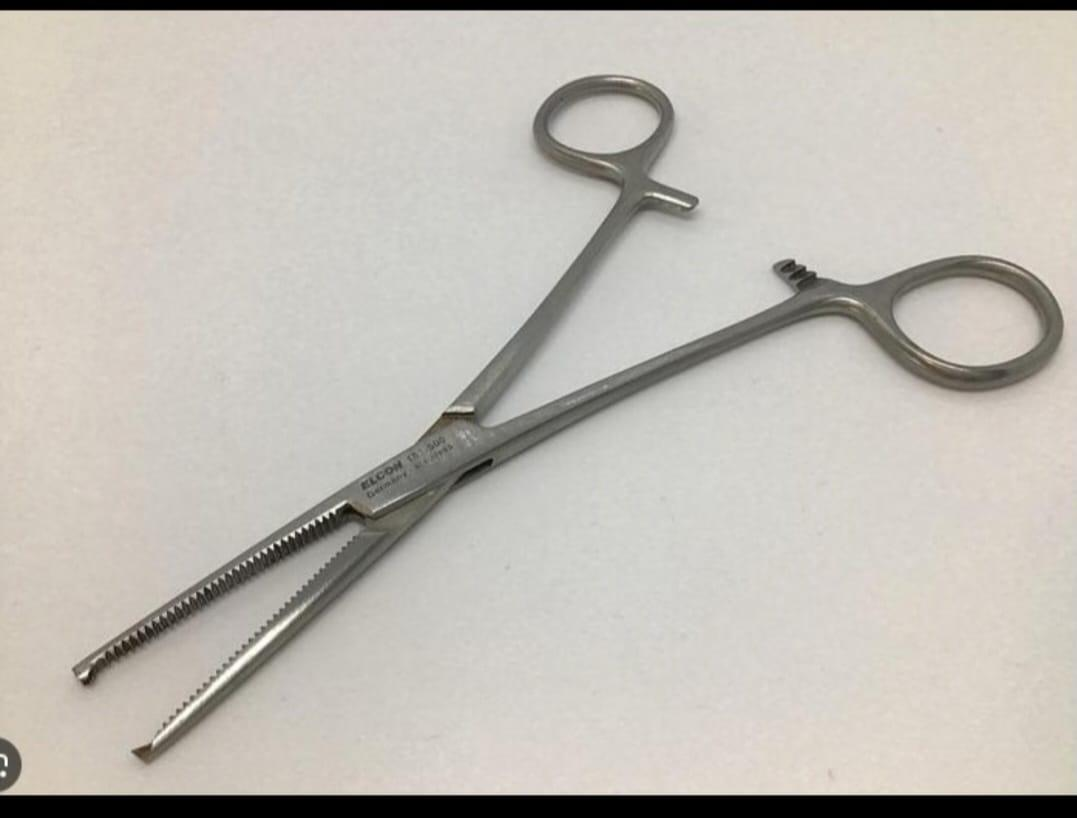Kocher Forceps: (59, 68, 1064, 774)
